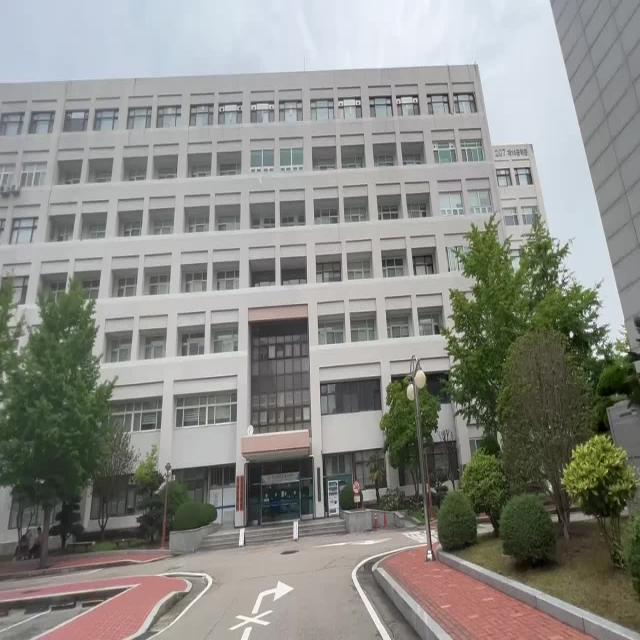building: (188, 62, 393, 551)
